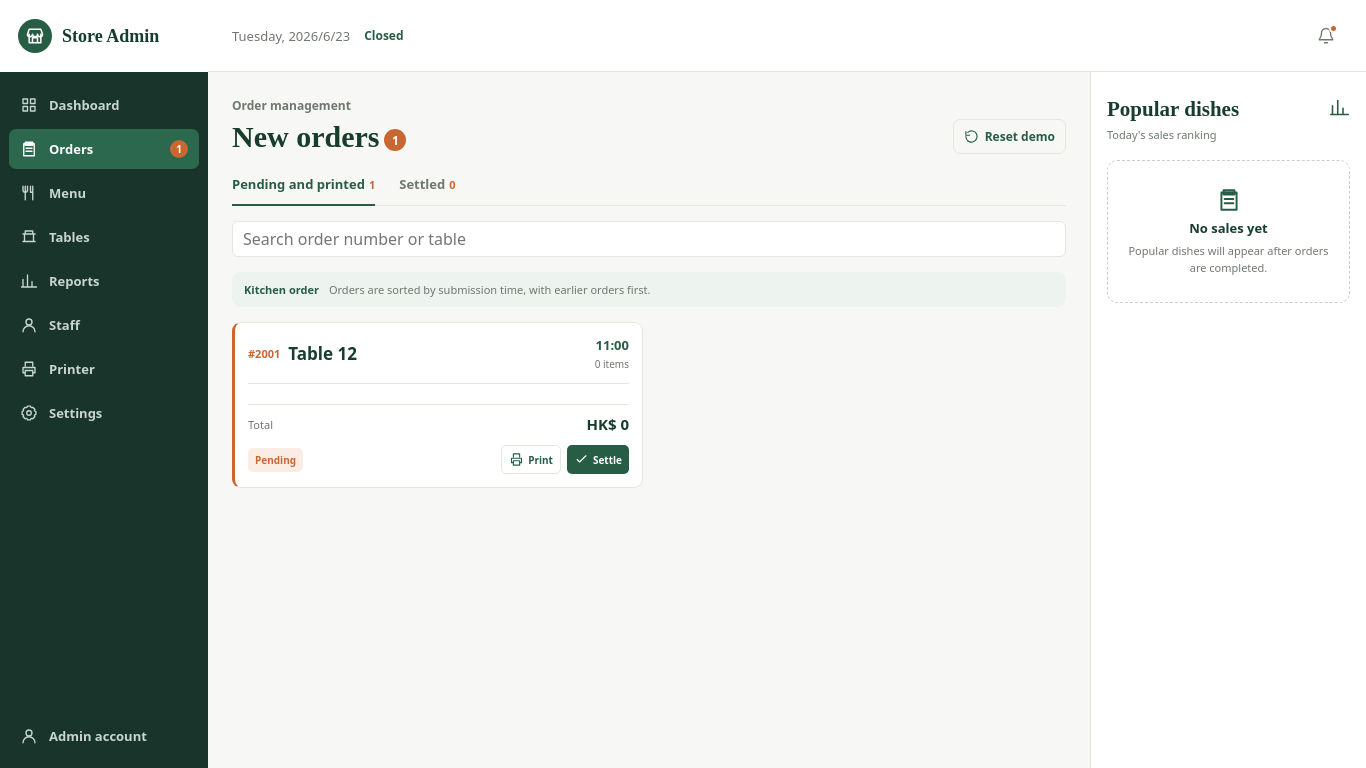
AdminApp store integration › shows an error when print status update fails
Click the button "Print".
click(531, 460)  # box [501,445,561,474]
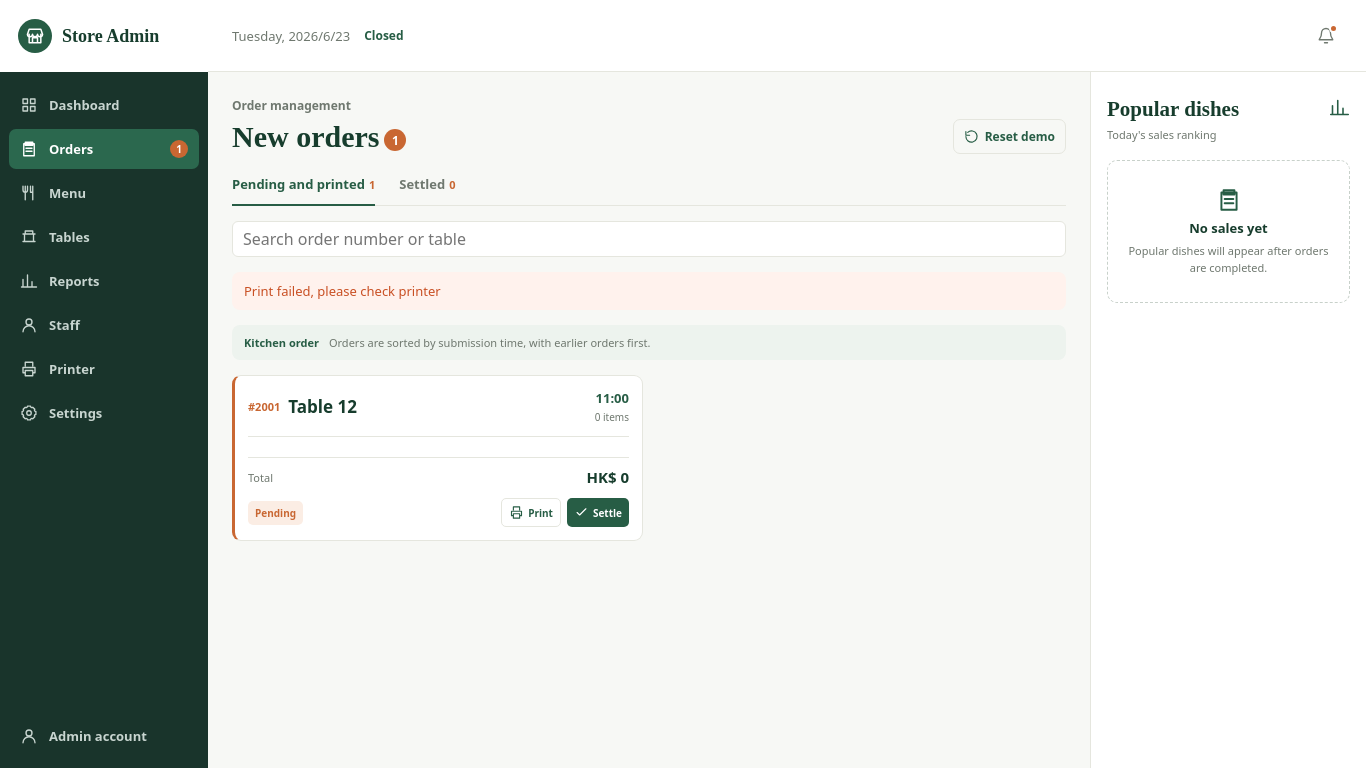
Now the text "Print failed, please check printer" is shown, box [232,272,1066,310]
